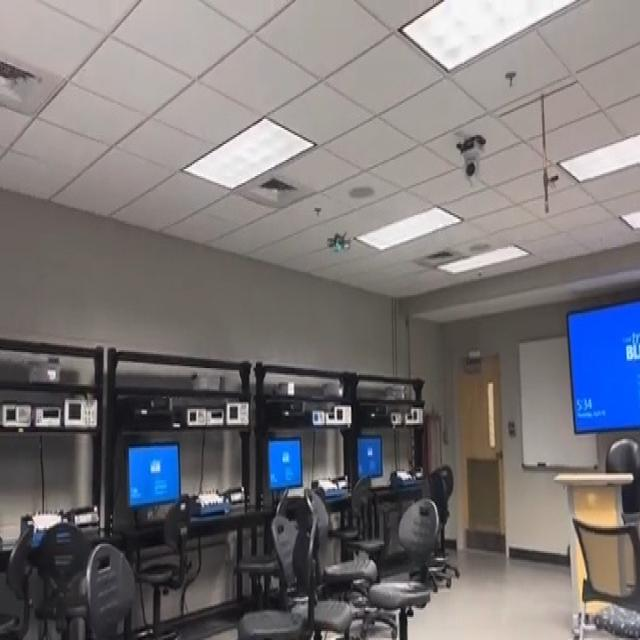drone: (315, 221, 361, 261)
